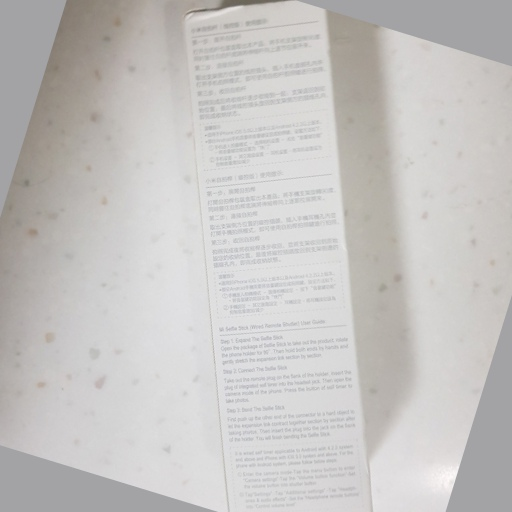Paper_0: (180, 1, 398, 512)
